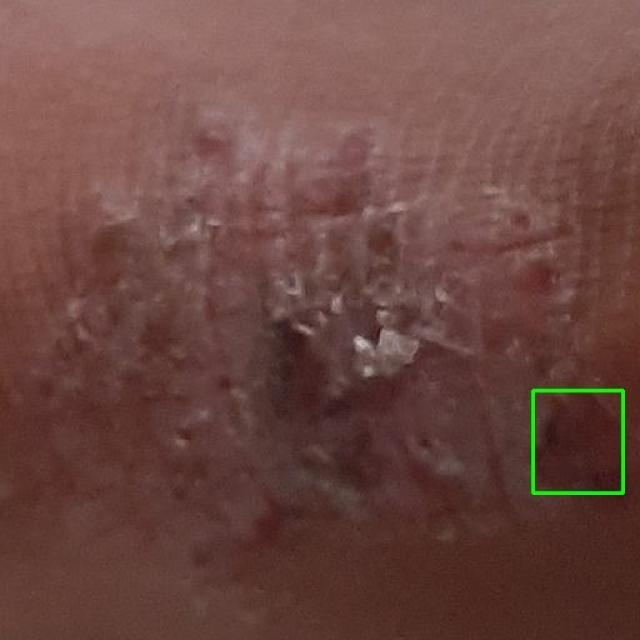Contact Dermatitis: (532, 390, 622, 492)
